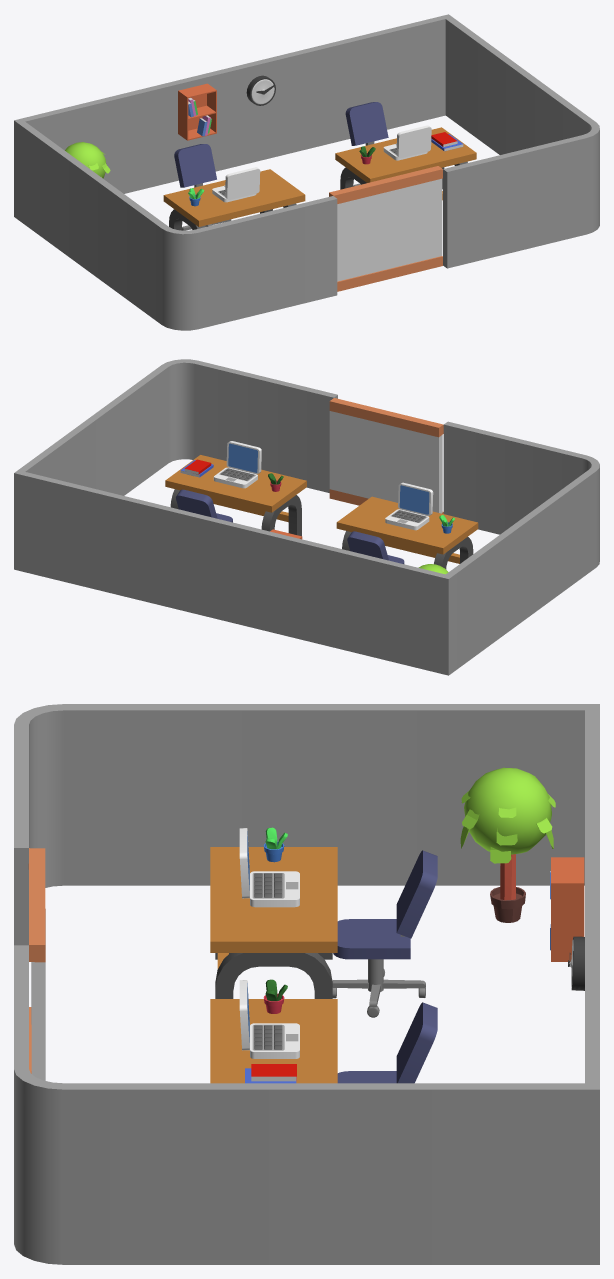
Rendered from hrOda.fbx.
The picture shows the model from 3 angles, top to bottom: view 1: azimuth 30°, elevation 25°; view 2: azimuth 150°, elevation 25°; view 3: azimuth 270°, elevation 25°; orthographic projection. The views are drawn at different scales.
Visible parts, largest first — view 1: duıvar, kapiSag.001, kapiSol.001, masa2, masa1, kitaplık, sandalye2, sandalye1, lapto2, laptop1, tree, duvarSaat; view 2: duıvar, kapiSag.001, masa2, masa1, kapiSol.001, lapto2, laptop1, sandalye2, sandalye1; view 3: duıvar, masa2, tree, masa1, sandalye2, kitaplık, kapiSag.001, sandalye1, laptop1, lapto2, kitap, kapiSol.001 (+1 smaller).
Boxes of the visible parts, x1,y1,x2,y2 form: duıvar: [14, 14, 599, 330]; kapiSag.001: [375, 166, 442, 280]; kapiSol.001: [329, 181, 392, 291]; masa2: [163, 169, 305, 230]; masa1: [335, 127, 476, 200]; kitaplık: [178, 83, 216, 140]; sandalye2: [174, 144, 231, 230]; sandalye1: [345, 102, 388, 186]; lapto2: [383, 125, 431, 160]; laptop1: [212, 167, 260, 202]; tree: [65, 142, 110, 178]; duvarSaat: [246, 75, 275, 105]; duıvar: [14, 359, 599, 675]; kapiSag.001: [329, 398, 396, 505]; masa2: [336, 496, 478, 569]; masa1: [165, 455, 306, 536]; kapiSol.001: [378, 413, 443, 513]; lapto2: [213, 441, 261, 488]; laptop1: [385, 482, 433, 530]; sandalye2: [347, 531, 404, 563]; sandalye1: [176, 489, 232, 522]; duıvar: [14, 704, 599, 1264]; masa2: [210, 847, 337, 998]; tree: [460, 767, 555, 922]; masa1: [210, 999, 337, 1083]; sandalye2: [332, 850, 437, 1017]; kitaplık: [550, 857, 584, 961]; kapiSag.001: [29, 889, 45, 1080]; sandalye1: [337, 1002, 437, 1083]; laptop1: [239, 828, 299, 907]; lapto2: [239, 980, 299, 1058]; kitap: [245, 1064, 296, 1083]; kapiSol.001: [28, 848, 45, 1046].
Bounding box in the file's own units: 943 × 202 × 606.
